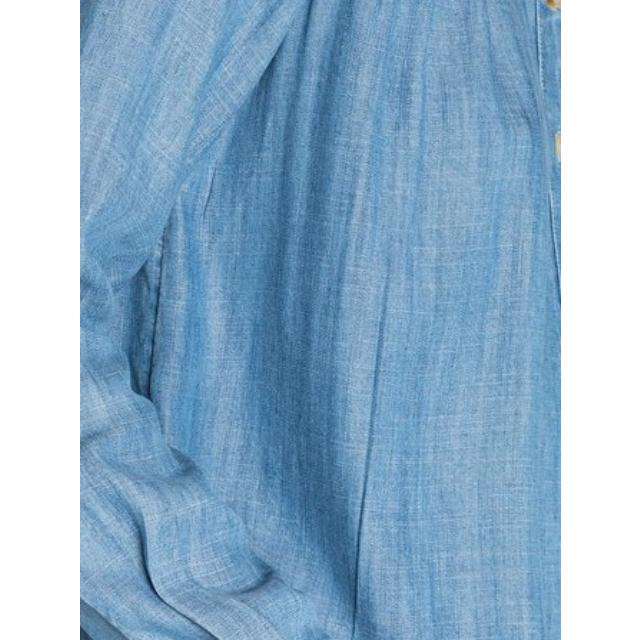denim: (80, 0, 560, 640)
